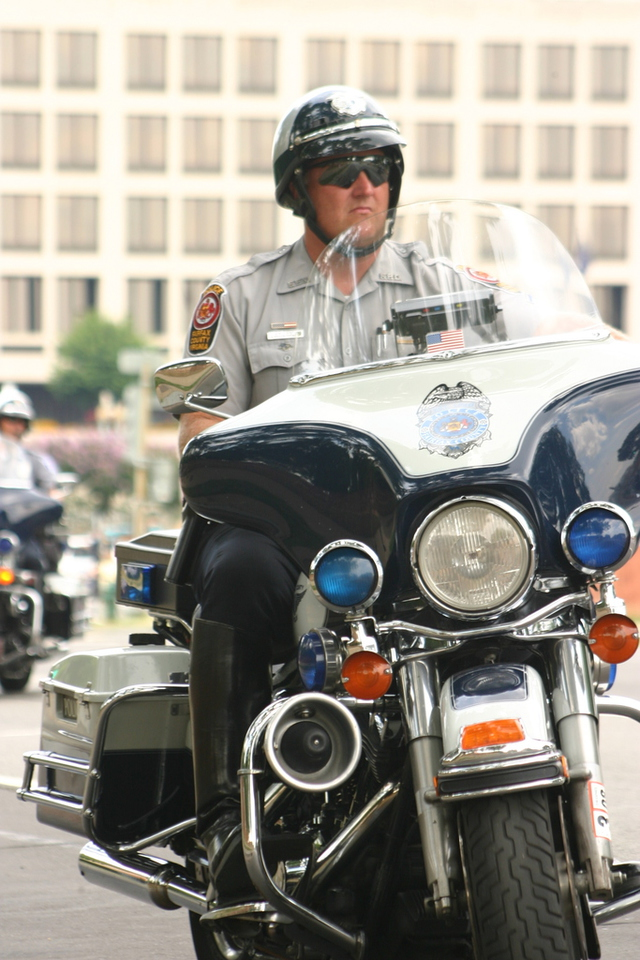helmet: (271, 83, 413, 178)
